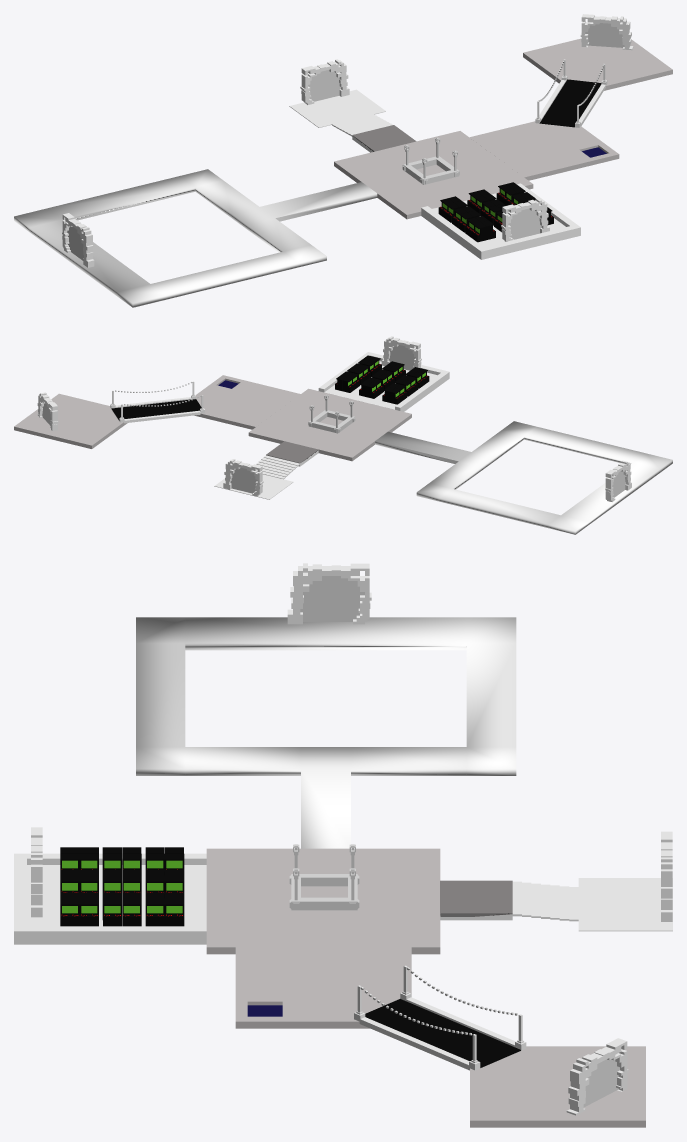
The model's file is Prototype Hub .fbx.
The picture shows the model from 3 angles, top to bottom: view 1: azimuth 30°, elevation 25°; view 2: azimuth 150°, elevation 25°; view 3: azimuth 270°, elevation 25°; orthographic projection. The views are drawn at different scales.
Parts seen in each view (by area): view 1: Labyrinth, Dice Boss Floor, Central Hall, Hub Entry, Arcade Boss Floor, Plank Bridge, Reception, ArkV2.2, ArkV2.003, ArkV2, ArkV2.001, Bridge (+3 smaller); view 2: Labyrinth, Dice Boss Floor, Central Hall, Hub Entry, Arcade Boss Floor, Plank Bridge, Bridge, Reception, ArkV2.2, ArkV2.003, ArkV2.001, Veil.001 (+2 smaller); view 3: Labyrinth, Dice Boss Floor, Central Hall, Hub Entry, Arcade Boss Floor, Plank Bridge, Bridge, Reception, Veil.003, ArkV2.001, ArkV2, ArkV2.003 (+2 smaller).
Boxes of the visible parts, left/top/right/bottom form: Labyrinth: left=14, top=169, right=377, bottom=307; Dice Boss Floor: left=470, top=38, right=672, bottom=180; Central Hall: left=334, top=131, right=533, bottom=219; Hub Entry: left=289, top=89, right=416, bottom=152; Arcade Boss Floor: left=421, top=183, right=580, bottom=259; Plank Bridge: left=539, top=79, right=601, bottom=127; Reception: left=402, top=137, right=459, bottom=184; ArkV2.2: left=300, top=59, right=349, bottom=104; ArkV2.003: left=501, top=198, right=549, bottom=241; ArkV2: left=580, top=14, right=633, bottom=50; ArkV2.001: left=62, top=213, right=94, bottom=267; Bridge: left=535, top=59, right=607, bottom=127; Labyrinth: left=375, top=421, right=672, bottom=534; Dice Boss Floor: left=14, top=375, right=300, bottom=448; Central Hall: left=248, top=388, right=411, bottom=461; Hub Entry: left=214, top=441, right=318, bottom=499; Arcade Boss Floor: left=318, top=352, right=449, bottom=411; Plank Bridge: left=111, top=399, right=201, bottom=420; Bridge: left=110, top=381, right=204, bottom=423; Reception: left=308, top=394, right=355, bottom=433; ArkV2.2: left=223, top=459, right=263, bottom=496; ArkV2.003: left=381, top=336, right=421, bottom=368; ArkV2.001: left=605, top=460, right=631, bottom=501; Veil.001: left=230, top=467, right=257, bottom=493; Labyrinth: left=136, top=617, right=516, bottom=848; Dice Boss Floor: left=235, top=947, right=645, bottom=1127; Central Hall: left=206, top=848, right=440, bottom=954; Hub Entry: left=440, top=878, right=672, bottom=931; Arcade Boss Floor: left=14, top=853, right=206, bottom=944; Plank Bridge: left=365, top=999, right=520, bottom=1067; Bridge: left=354, top=965, right=526, bottom=1070; Reception: left=289, top=844, right=359, bottom=910; Veil.003: left=300, top=576, right=364, bottom=621; ArkV2.001: left=287, top=563, right=371, bottom=624; ArkV2: left=566, top=1038, right=628, bottom=1115; ArkV2.003: left=31, top=827, right=42, bottom=917.
Bounding box in the file's own units: 25240 × 1509 × 13968.
